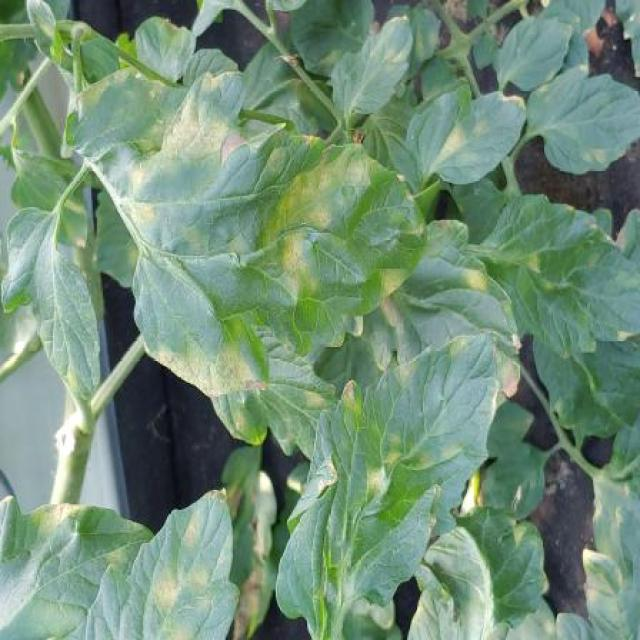Leaf Mold: (100, 70, 429, 399), (276, 328, 497, 631), (485, 192, 640, 358), (85, 484, 239, 640), (405, 87, 528, 186)
